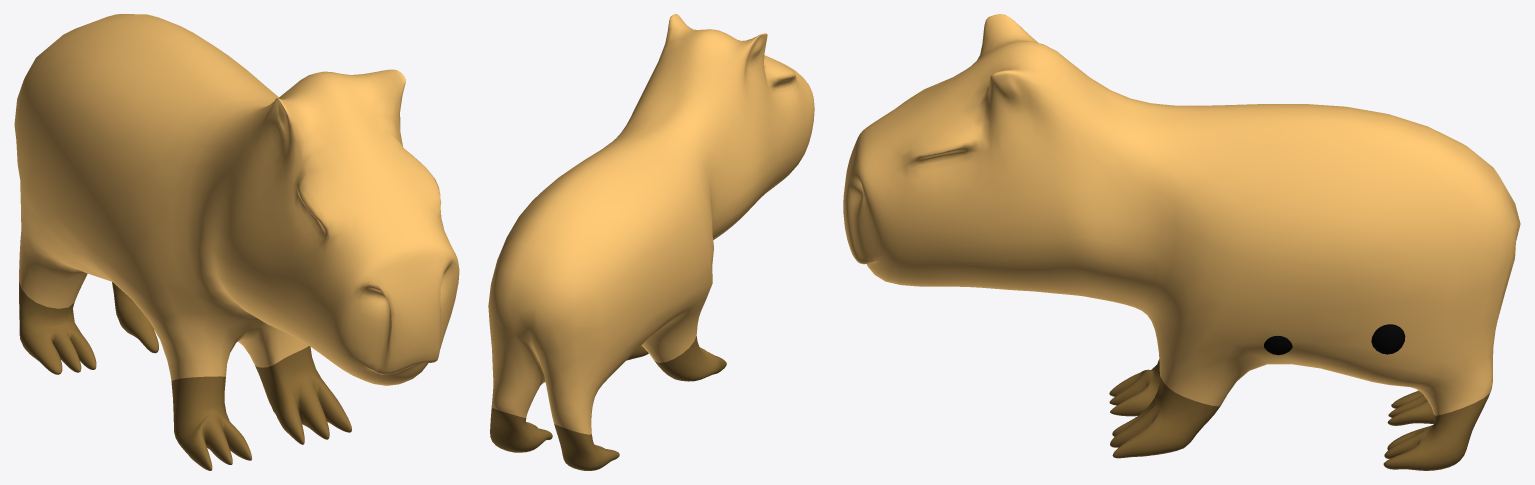
Rendered from capybase.fbx.
3 renders of one model, left to right at view 1: azimuth 30°, elevation 25°; view 2: azimuth 150°, elevation 25°; view 3: azimuth 270°, elevation 25°, orthographic. The views are drawn at different scales.
Parts seen in each view (by area): view 1: body; view 2: body; view 3: body, eye.
Part boxes in pixels (<box>): body: <box>14,14,459,470</box>; body: <box>488,14,814,470</box>; body: <box>843,14,1520,470</box>; eye: <box>1371,324,1405,354</box>.
Size of the model in its own units: 2.23 by 4.52 by 6.91.
